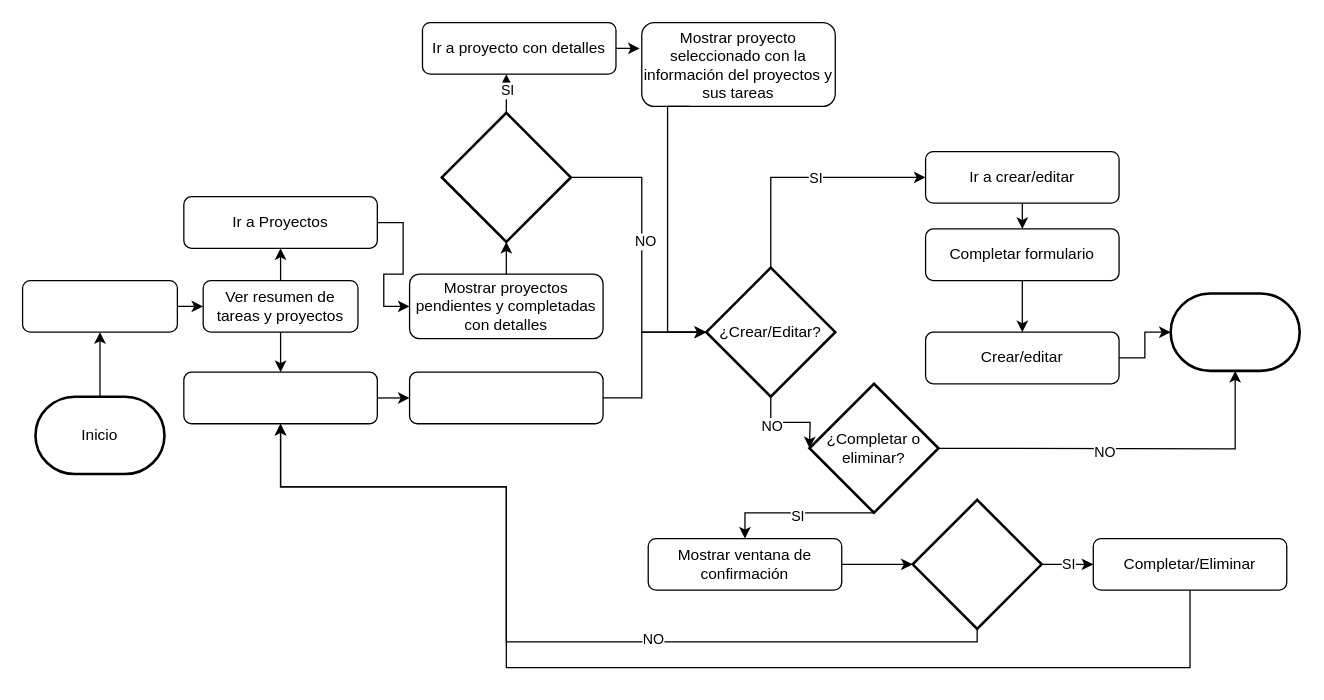
The diagram is 1324 pixels wide and 700 high, and some of its shapes have lost their labels. The centre of each missing label's shape, as x and y in pixels:
Confirmación: [976,564]
Fin: [1234,332]
Ir a Tareas: [280,397]
Mostrar tareas pendientes y completadas con detalles: [505,397]
Página principal: [99,305]
¿Ver proyecto?: [505,177]
